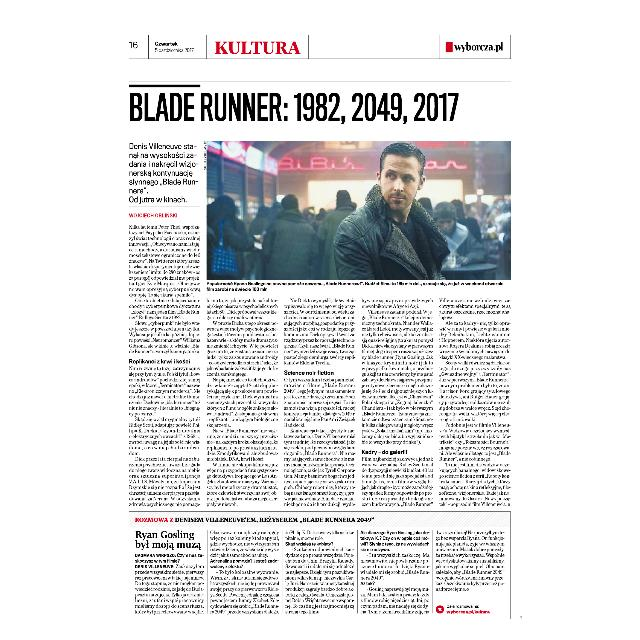article: (127, 82, 516, 510), (134, 514, 511, 618)
